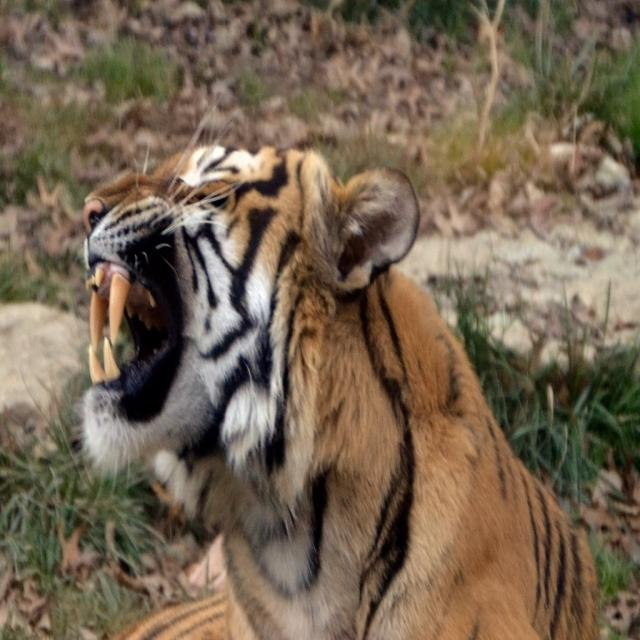Tiger: (78, 87, 604, 639)
